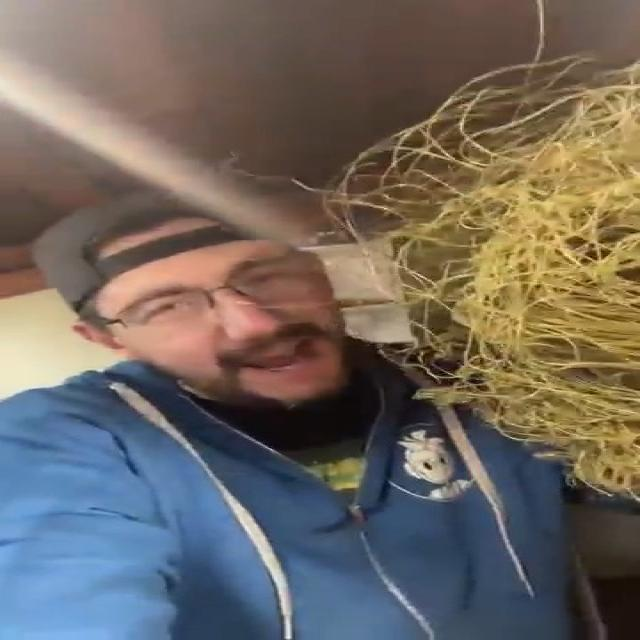spaghetti: (340, 45, 640, 511)
